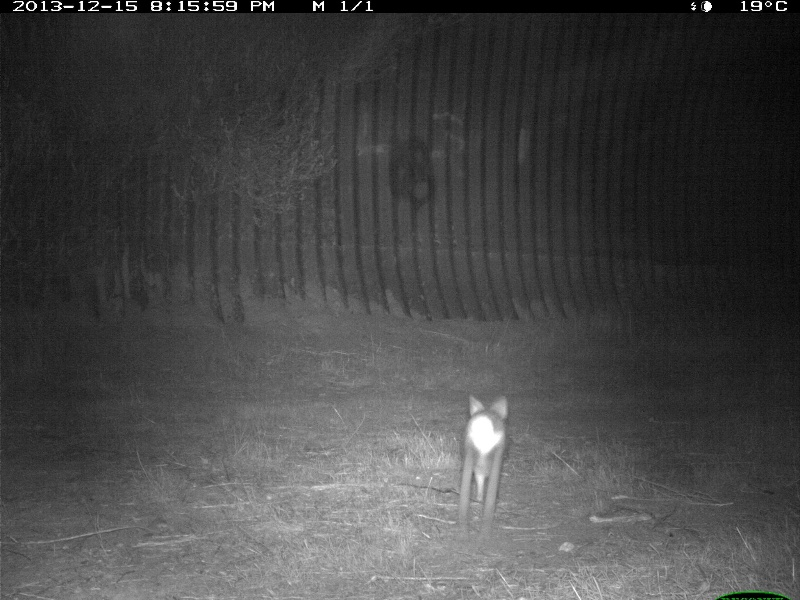coyote: (453, 391, 515, 538)
